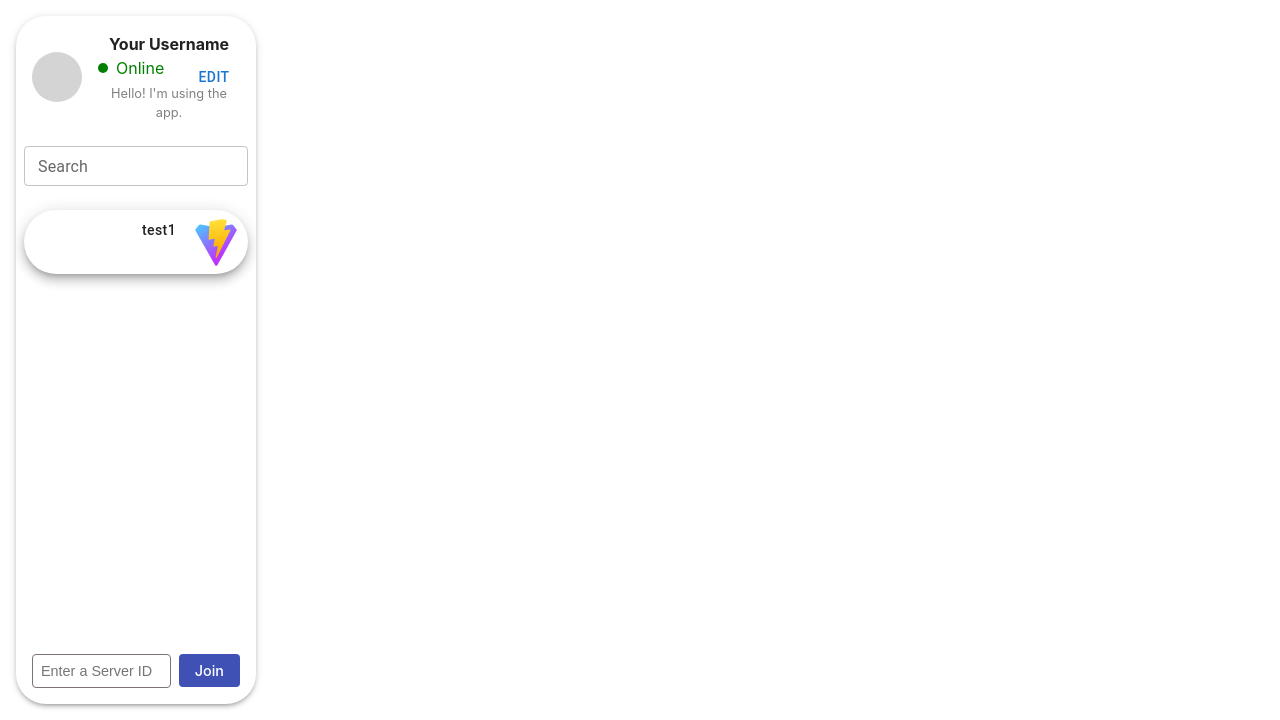
Scenario: CustomUserBadge › opens the profile edit modal when Edit is clicked
Click the button "Edit" at coordinates (214, 77), box x1=182 y1=59 x2=246 y2=95
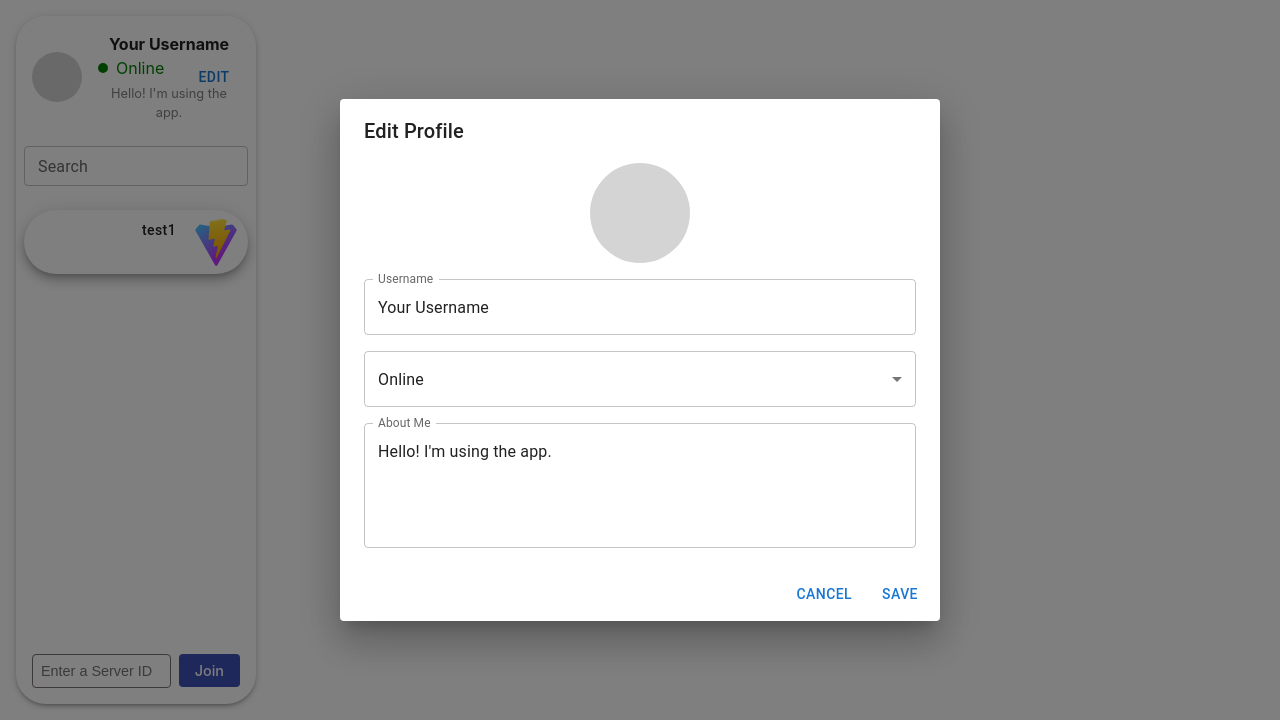
Result: the dialog is shown at x1=340 y1=99 x2=940 y2=621
